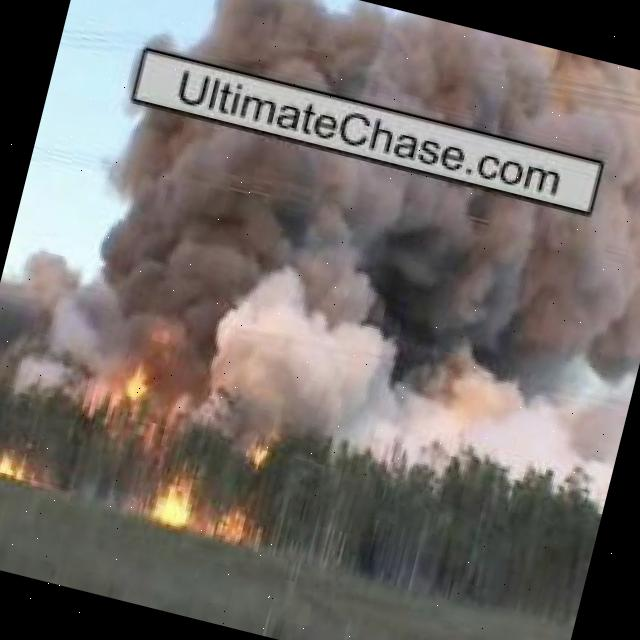fire: (197, 417, 290, 547), (118, 350, 163, 426), (154, 463, 197, 529), (0, 447, 40, 485)
